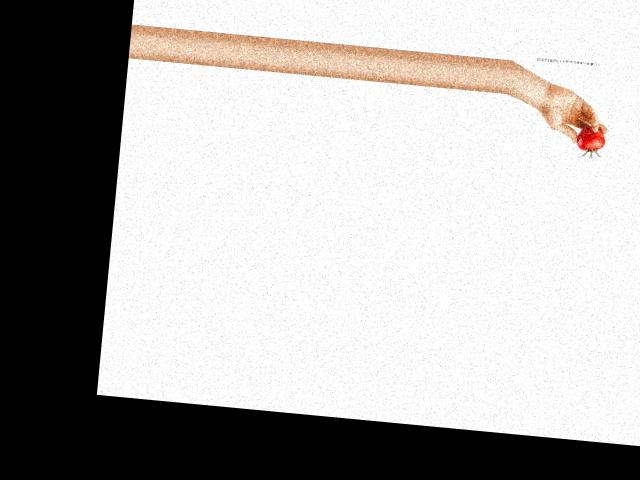tomato: (575, 125, 606, 151)
